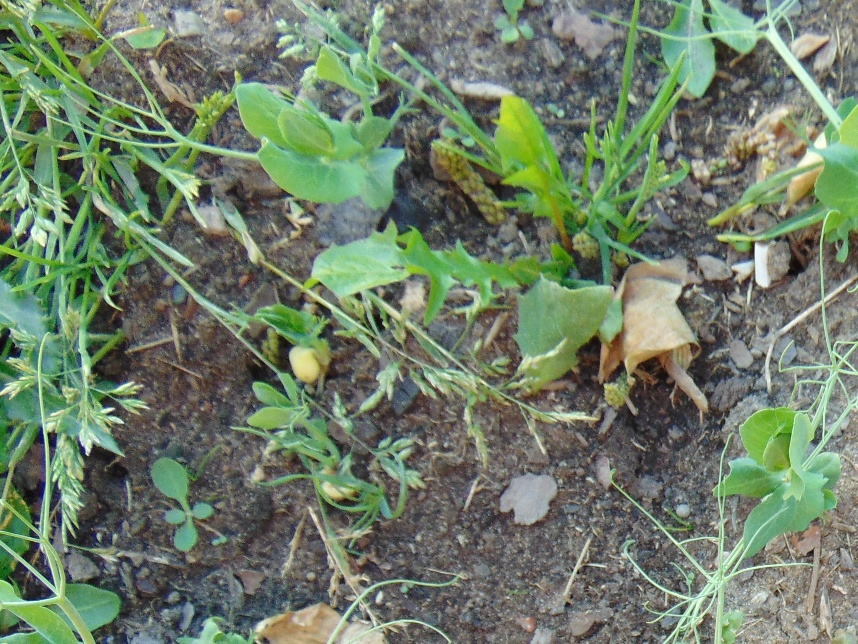crop: (649, 338, 858, 644), (105, 67, 405, 214), (747, 1, 858, 235), (1, 490, 122, 644), (242, 299, 336, 444)
weed: (1, 2, 115, 480), (475, 87, 681, 348), (313, 202, 595, 306), (1, 155, 195, 264), (660, 1, 755, 93), (152, 455, 209, 554), (491, 1, 537, 43)
